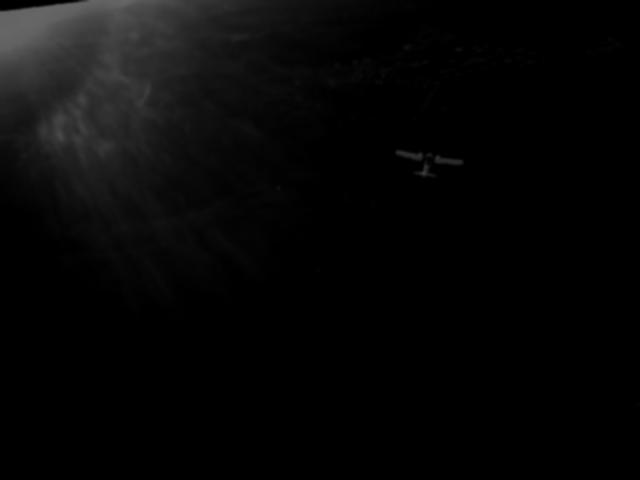hedef: (386, 139, 474, 197)
